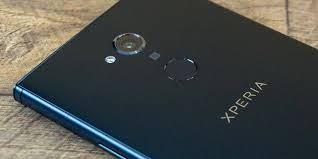sony: (12, 0, 318, 157)
